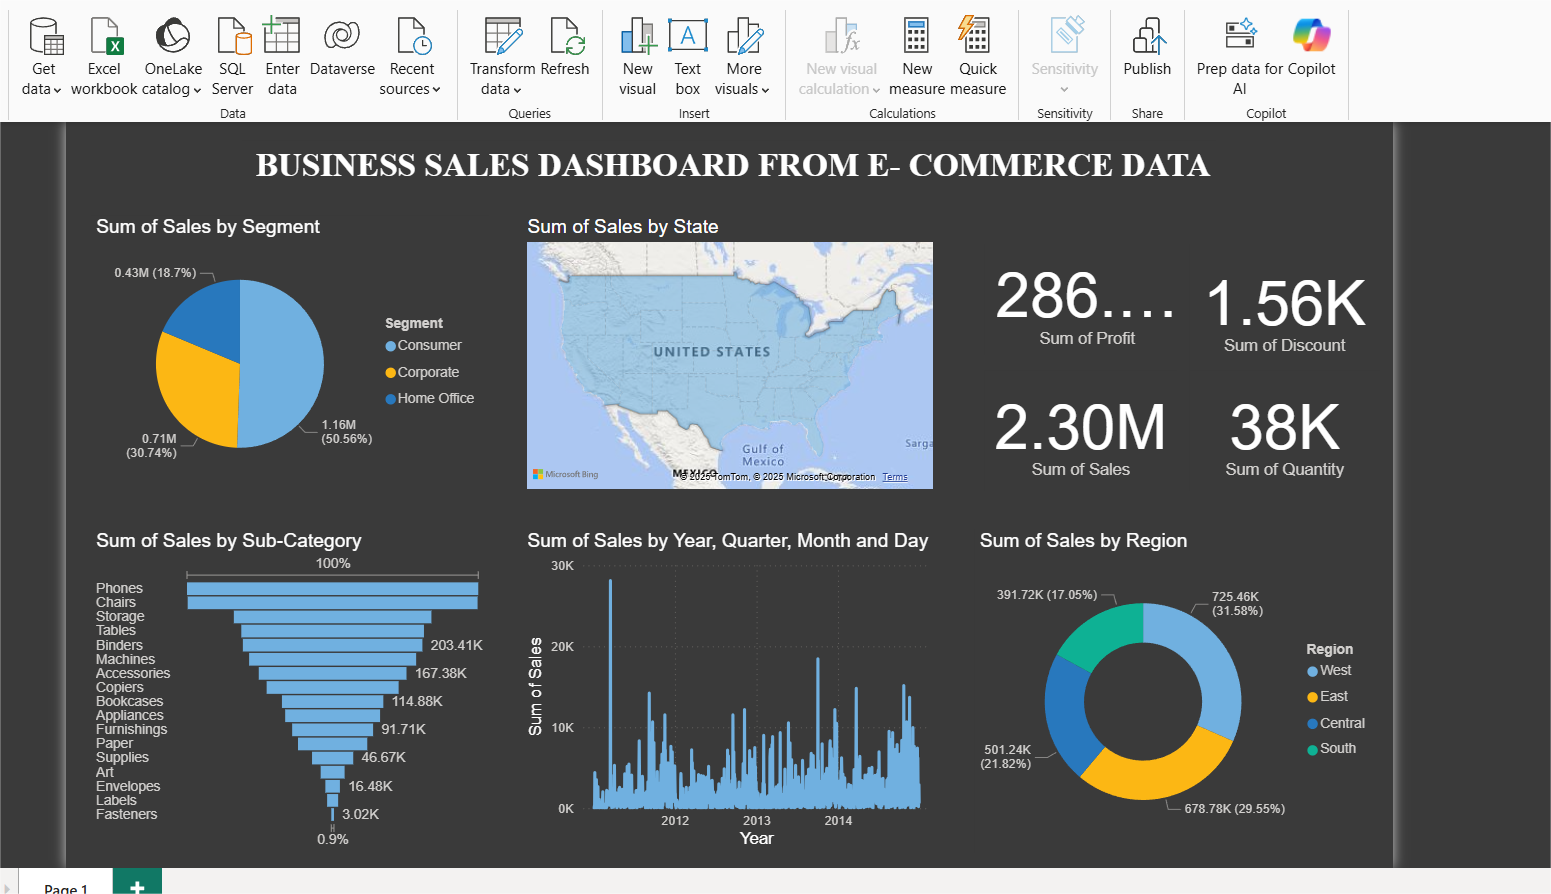

The dashboard page shown, as its layout file describes it:
{"tool":"powerbi","page":{"name":"Page 1","canvas":[1280,720],"ordinal":0},"visuals":[{"type":"donutChart","fields":{"Category":["Orders.Region"],"Y":["Sum(Orders.Sales)"]},"box":[876.8,393.8,391.3,311.8],"z":0},{"type":"funnel","fields":{"Category":["Orders.Sub-Category"],"Y":["Sum(Orders.Sales)"]},"box":[24.5,393.8,384,311.8],"z":1000},{"type":"pieChart","fields":{"Category":["Orders.Segment"],"Y":["Sum(Orders.Sales)"]},"box":[24.5,90.5,384,265.4],"z":2000},{"type":"lineChart","fields":{"Category":["Orders.Order Date.Variation.Date Hierarchy.Year","Orders.Order Date.Variation.Date Hierarchy.Quarter","Orders.Order Date.Variation.Date Hierarchy.Month","Orders.Order Date.Variation.Date Hierarchy.Day"],"Y":["Sum(Orders.Sales)"]},"box":[440.2,393.8,402.3,311.8],"z":3000},{"type":"card","fields":{"Values":["Sum(Orders.Sales)"]},"box":[886.6,239.7,185.9,116.2],"z":4000},{"type":"card","fields":{"Values":["Sum(Orders.Profit)"]},"box":[886.6,118.6,198.1,106.4],"z":5000},{"type":"card","fields":{"Values":["Sum(Orders.Discount)"]},"box":[1084.7,118.6,183.4,121.1],"z":6000},{"type":"card","fields":{"Values":["Sum(Orders.Quantity)"]},"box":[1084.7,239.7,183.4,116.2],"z":7000},{"type":"filledMap","fields":{"Category":["Orders.State"]},"box":[440.2,90.5,402.3,269],"z":8000},{"type":"textbox","box":[170,18.6,940,52.9],"z":10000}]}

Visuals, with their boxes on the page's 1280x720 design canvas (x1, y1, x2, y2). These are canvas units, not pixel positions in the 1551x894 screenshot, which may show the page scaled, cropped or inside an application window:
donutChart - Orders.Region x Sum(Orders.Sales): box(877, 394, 1268, 706)
funnel - Orders.Sub-Category x Sum(Orders.Sales): box(24, 394, 408, 706)
pieChart - Orders.Segment x Sum(Orders.Sales): box(24, 90, 408, 356)
lineChart - Orders.Order Date.Variation.Date Hierarchy.Year x Orders.Order Date.Variation.Date Hierarchy.Quarter: box(440, 394, 842, 706)
card - Sum(Orders.Sales): box(887, 240, 1072, 356)
card - Sum(Orders.Profit): box(887, 119, 1085, 225)
card - Sum(Orders.Discount): box(1085, 119, 1268, 240)
card - Sum(Orders.Quantity): box(1085, 240, 1268, 356)
filledMap - Orders.State: box(440, 90, 842, 360)
textbox: box(170, 19, 1110, 72)
